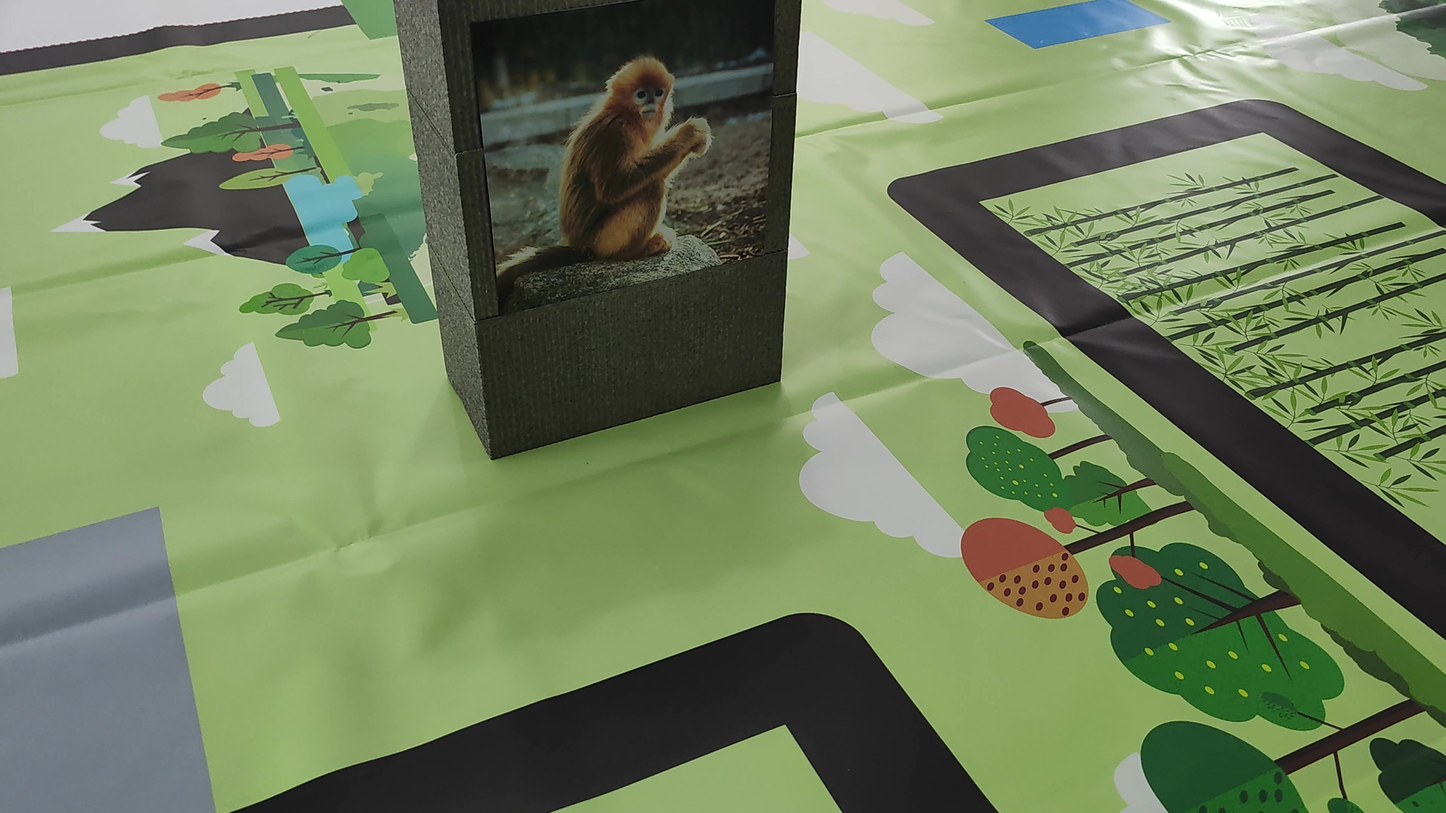monkey: (493, 31, 718, 314)
